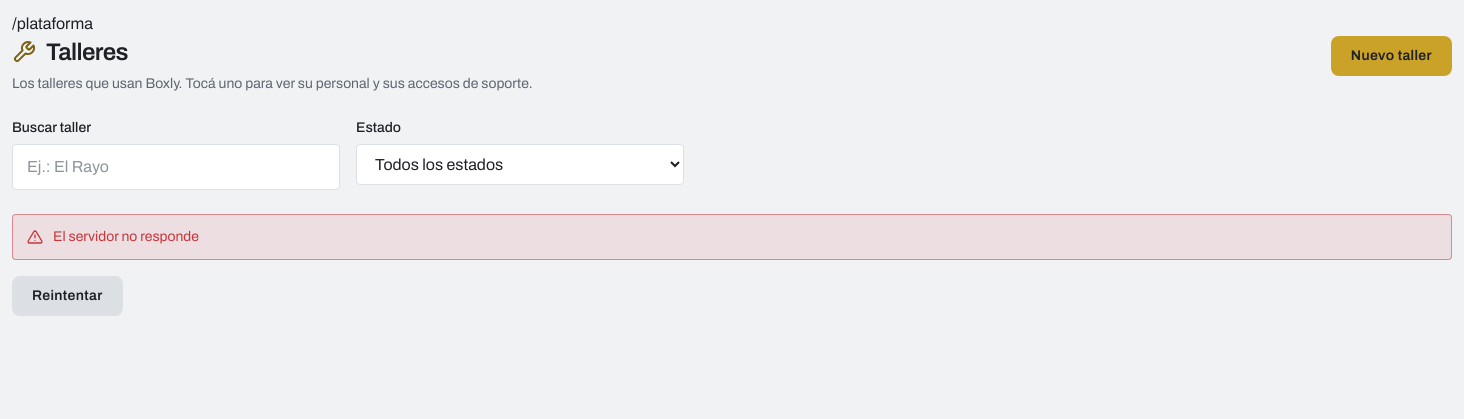
Plataforma › si el servidor falla muestra la alerta y Reintentar vuelve a pedir
Expected: the text "El servidor no responde" is shown, [53,229,199,244]
Click the button "Reintentar". click: {"x": 67, "y": 296}
box: [12,276,123,316]
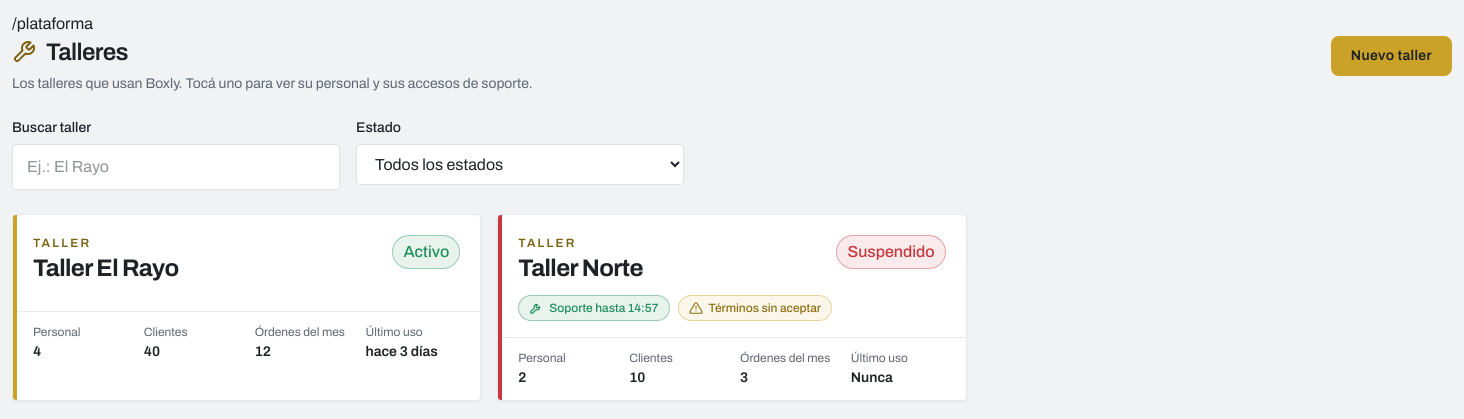
Now the heading "Taller El Rayo" is shown, box [33,253,179,283]
